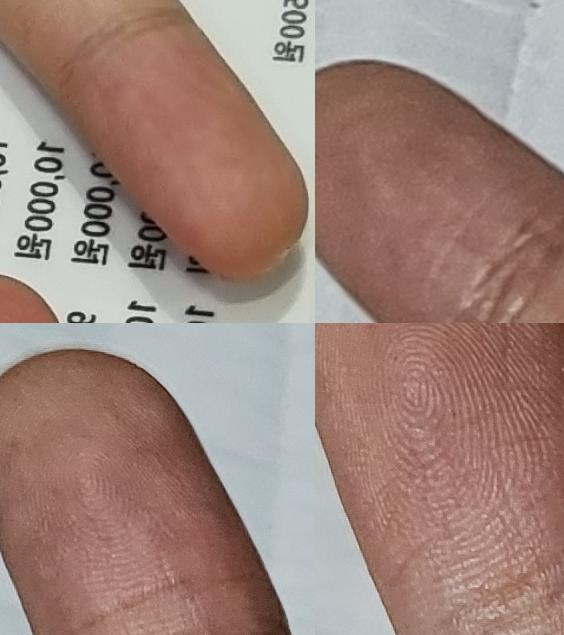Fingerprints: (0, 347, 290, 635), (315, 323, 564, 635), (315, 58, 564, 323), (65, 12, 309, 277)
